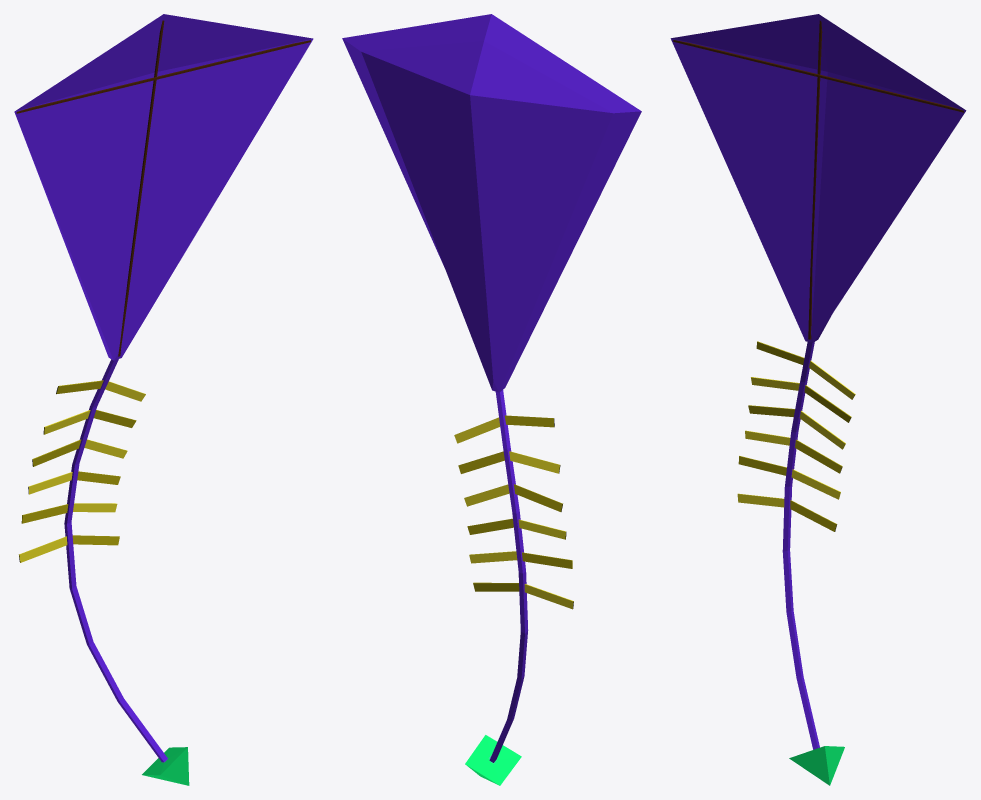
File: kite.obj
3 views of the same model, side by side, from view 1: azimuth 30°, elevation 25°; view 2: azimuth 150°, elevation 25°; view 3: azimuth 330°, elevation 25° (orthographic).
Visible parts, largest first — view 1: Object_4, Object_7, Object_8, Object_6, Object_5; view 2: Object_4, Object_7, Object_8, Object_5; view 3: Object_4, Object_7, Object_8, Object_6, Object_5.
Part boxes in pixels (bbox=[...]): Object_4: bbox=[14, 14, 313, 762]; Object_7: bbox=[21, 380, 136, 545]; Object_8: bbox=[19, 381, 145, 562]; Object_6: bbox=[16, 20, 310, 356]; Object_5: bbox=[142, 747, 189, 785]; Object_4: bbox=[342, 14, 641, 762]; Object_7: bbox=[458, 415, 572, 591]; Object_8: bbox=[454, 417, 573, 609]; Object_5: bbox=[465, 735, 521, 785]; Object_4: bbox=[670, 14, 966, 749]; Object_7: bbox=[738, 341, 851, 531]; Object_8: bbox=[737, 360, 855, 507]; Object_6: bbox=[673, 20, 963, 339]; Object_5: bbox=[789, 746, 844, 785].
Bounding box in the file's own units: 5.02 × 12.37 × 1.4.
Materials: 5 (5 with a texture image).
